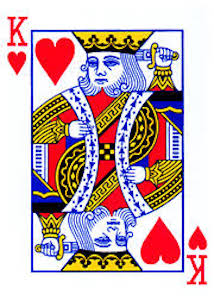KingOfHearts: (2, 4, 214, 292)
